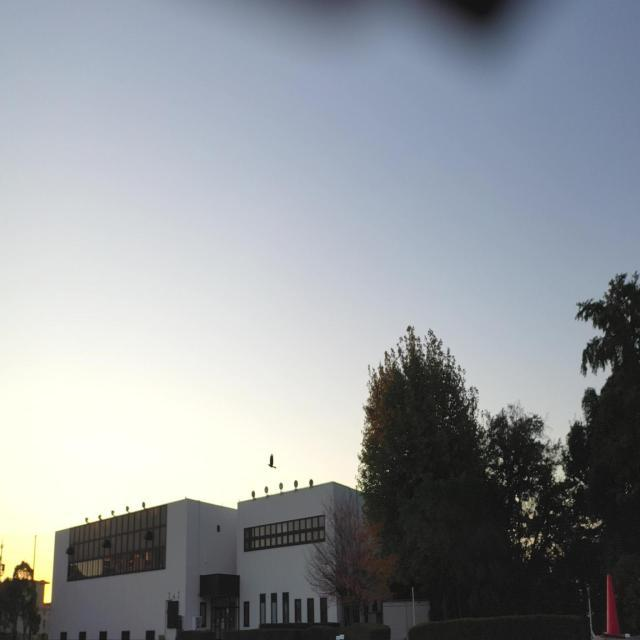Birds: (264, 458, 276, 476)
